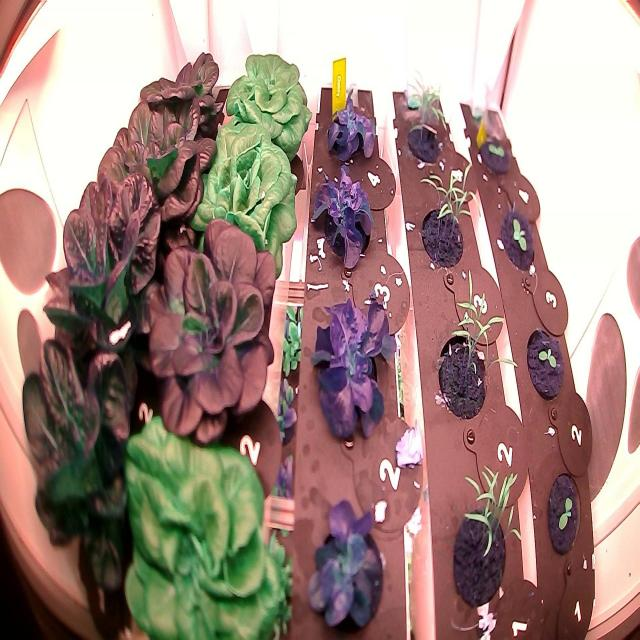Ready: (18, 320, 154, 619), (122, 406, 290, 640), (137, 212, 292, 462), (23, 252, 144, 478), (38, 142, 175, 317), (88, 87, 225, 235), (186, 119, 302, 280), (128, 40, 234, 154), (220, 46, 312, 165)
germination: (541, 465, 589, 562), (517, 318, 569, 405), (496, 204, 539, 276), (476, 120, 517, 184)
